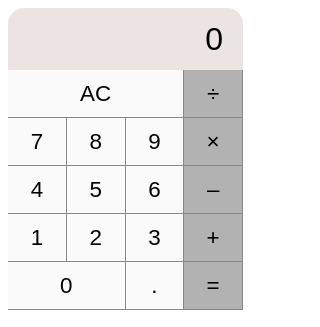
Test: Teste do componente <Calculator/> › Deve adicionar digitos no display
Step 1. Click the button "2" → [97, 238], box [67, 214, 126, 262]
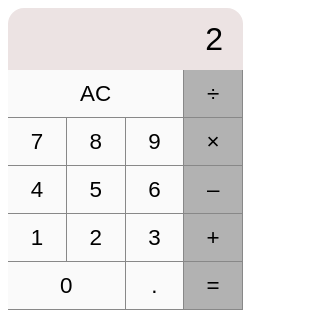
Step 2. Click the button "0" → [67, 286], box [8, 262, 126, 310]
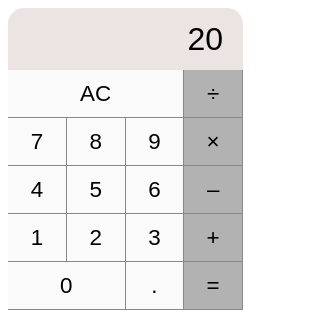
Step 3. Click the button "2" → [97, 238], box [67, 214, 126, 262]
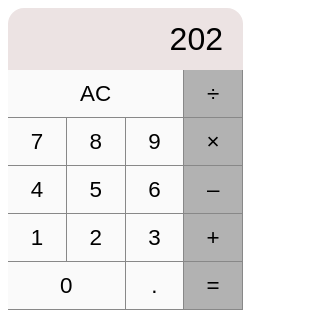
Step 4. Click the button "3" → [156, 238], box [126, 214, 185, 262]
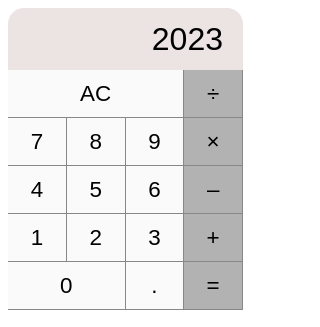
Expected: the text with test id "display" reads "2023", [8, 8, 243, 70]
